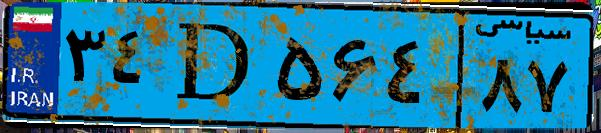3: (57, 26, 110, 100)
4: (385, 28, 445, 110), (110, 28, 158, 98)
5: (270, 28, 330, 110)
6: (330, 28, 385, 110)
7: (525, 38, 570, 115)
8: (475, 38, 525, 113)
D: (158, 12, 270, 120)
